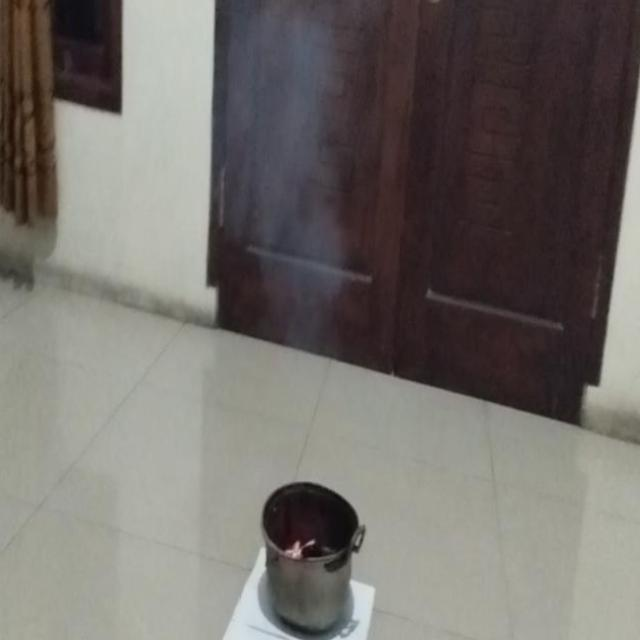fire: (214, 0, 351, 342)
